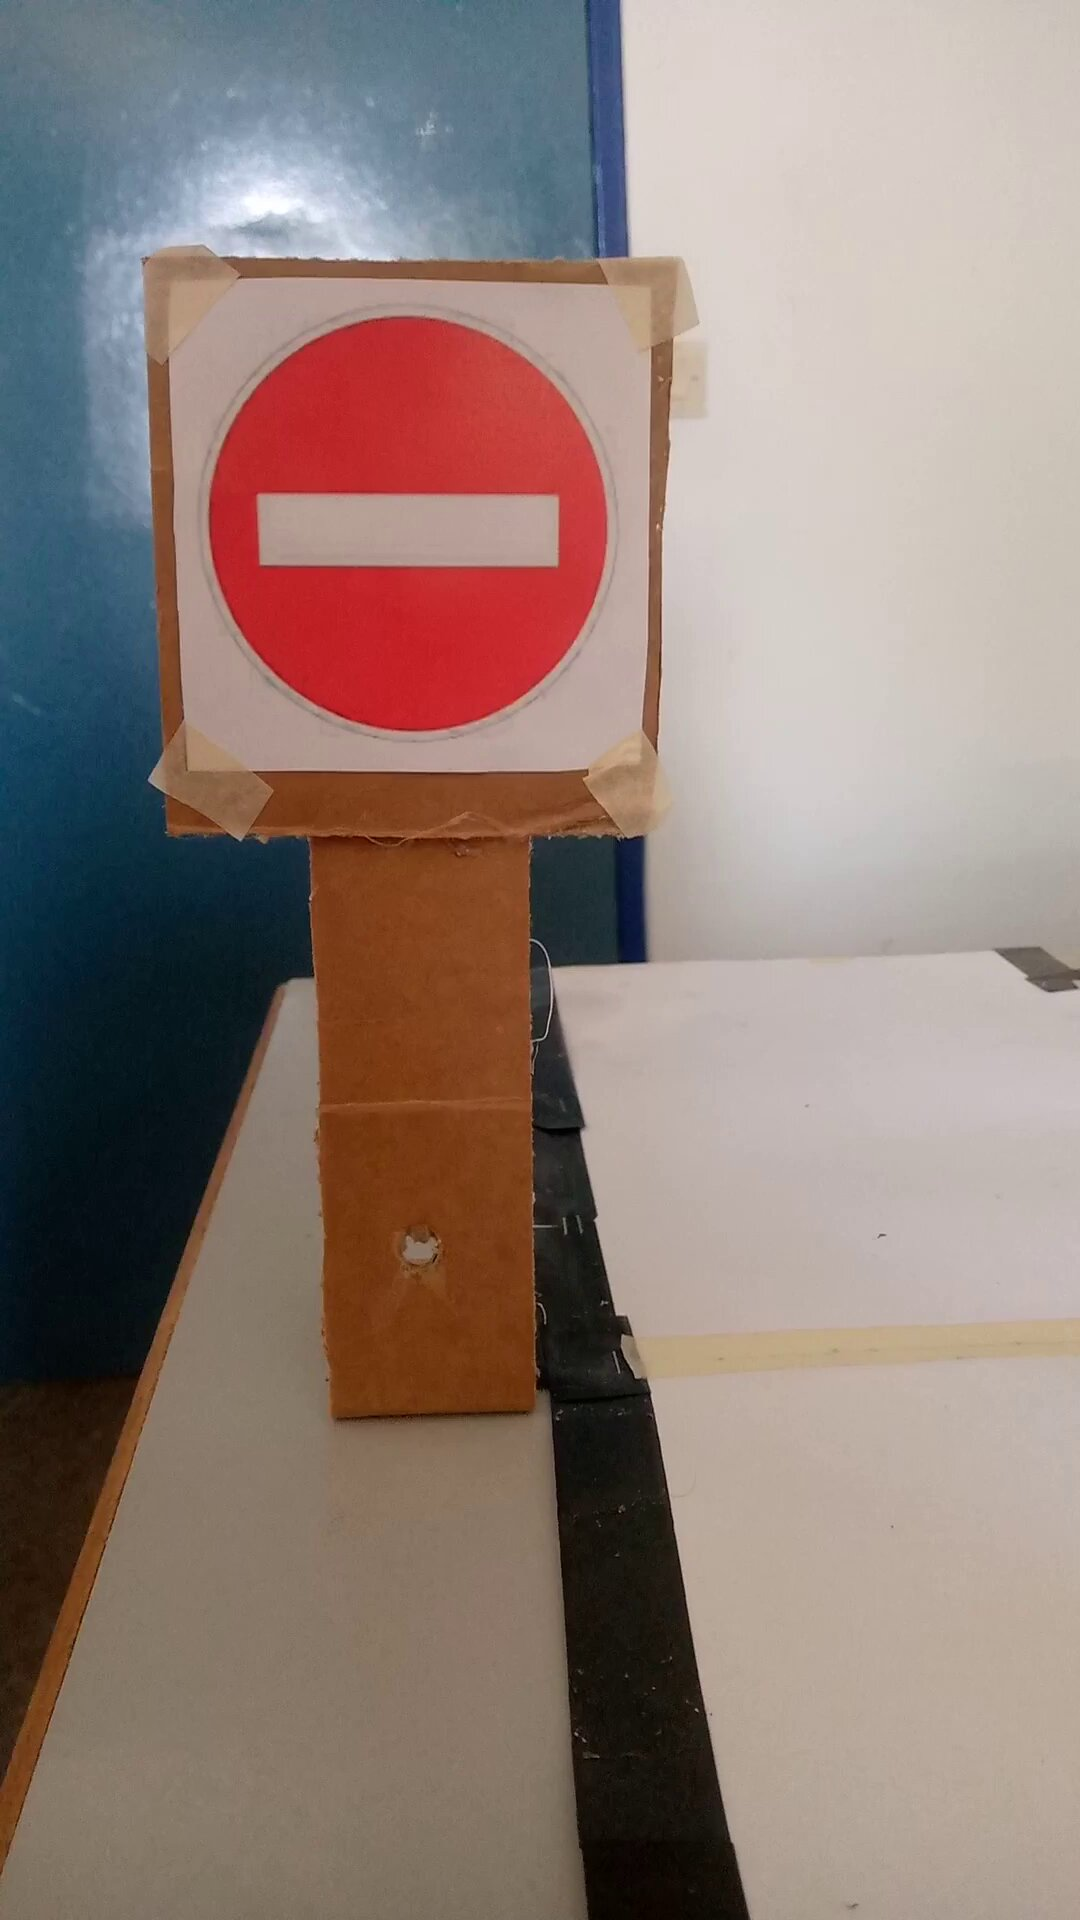panel010: (146, 274, 658, 803)
